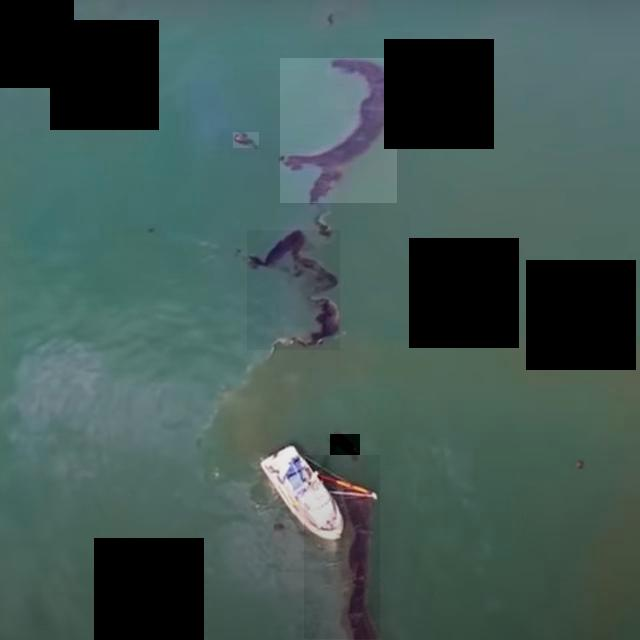oil spill: (280, 59, 397, 203), (305, 456, 380, 639), (247, 230, 340, 350), (330, 434, 360, 462), (233, 132, 258, 148)
